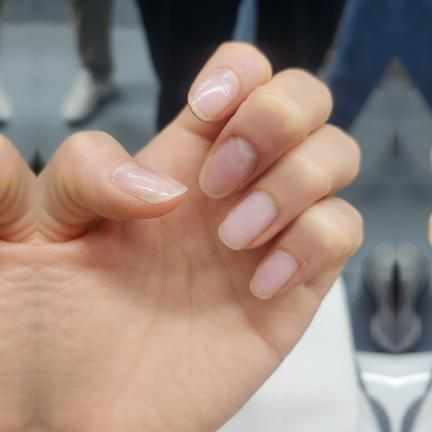Nail: (198, 137, 257, 197), (217, 191, 277, 250), (110, 162, 187, 205), (187, 69, 239, 122), (249, 250, 297, 299)
